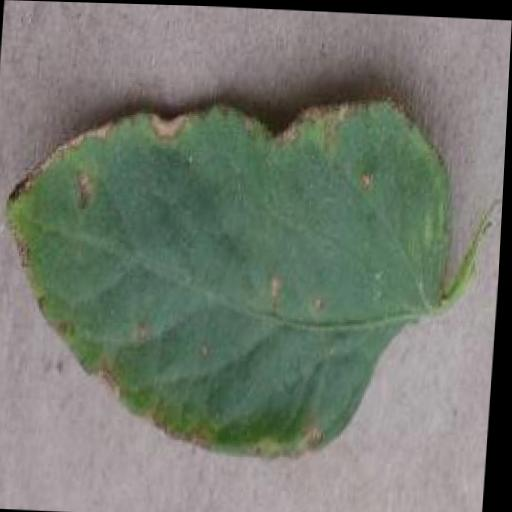Bacterial Spot: (0, 81, 469, 468)
